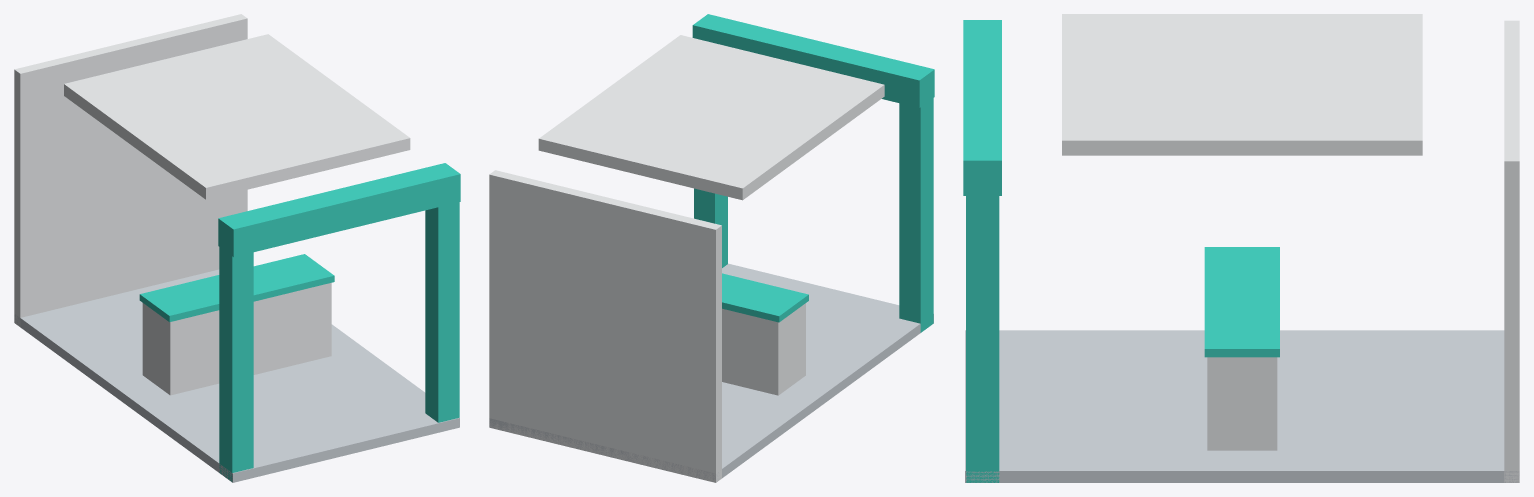
3 renders of one model, left to right at view 1: azimuth 30°, elevation 25°; view 2: azimuth 150°, elevation 25°; view 3: azimuth 270°, elevation 25°, orthographic. The views are drawn at different scales.
Parts seen in each view (by area): view 1: Exhibition Booth Concept; view 2: Exhibition Booth Concept; view 3: Exhibition Booth Concept.
Boxes of the visible parts, x1,y1,x2,y2 form: Exhibition Booth Concept: (14,14,460,482); Exhibition Booth Concept: (489,14,934,482); Exhibition Booth Concept: (963,14,1519,482).
Size of the model in its own units: 3 by 3.34 by 5.02.
